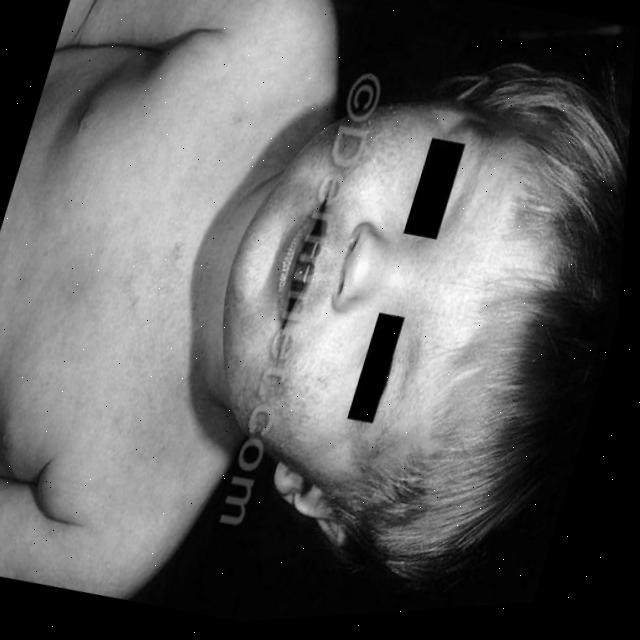Eczema: (215, 117, 399, 448)
